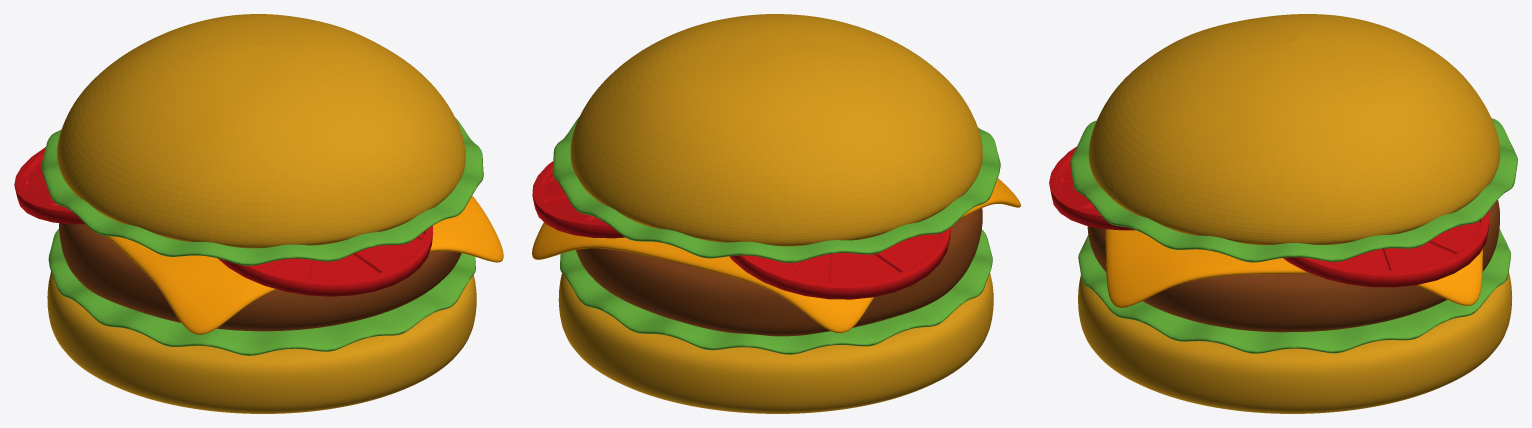
The model's file is burger.gltf.
3 views of the same model, side by side, from view 1: azimuth 30°, elevation 25°; view 2: azimuth 150°, elevation 25°; view 3: azimuth 270°, elevation 25° (orthographic).
Parts seen in each view (by area): view 1: Sphere_8, Cylinder_0, Cylinder.002_2, Cylinder.001_1, Plane_3, Cylinder.006_7, Cylinder.003_4, Cylinder.005_6; view 2: Sphere_8, Cylinder_0, Cylinder.002_2, Cylinder.001_1, Cylinder.006_7, Cylinder.005_6, Plane_3, Cylinder.004_5; view 3: Sphere_8, Cylinder_0, Cylinder.002_2, Cylinder.006_7, Cylinder.001_1, Plane_3, Cylinder.004_5, Cylinder.003_4.
Boxes of the visible parts, <box> form: Sphere_8: <box>57,14,465,248</box>; Cylinder_0: <box>47,271,476,413</box>; Cylinder.002_2: <box>59,223,461,331</box>; Cylinder.001_1: <box>48,229,475,355</box>; Plane_3: <box>106,195,503,334</box>; Cylinder.006_7: <box>41,117,483,265</box>; Cylinder.003_4: <box>218,225,433,296</box>; Cylinder.005_6: <box>14,147,85,224</box>; Sphere_8: <box>570,14,982,246</box>; Cylinder_0: <box>558,273,993,413</box>; Cylinder.002_2: <box>576,208,982,336</box>; Cylinder.001_1: <box>560,229,992,354</box>; Cylinder.006_7: <box>552,117,1000,262</box>; Cylinder.005_6: <box>729,227,951,299</box>; Plane_3: <box>532,178,1020,333</box>; Cylinder.004_5: <box>532,161,624,238</box>; Sphere_8: <box>1088,14,1500,245</box>; Cylinder_0: <box>1078,272,1512,413</box>; Cylinder.002_2: <box>1087,200,1499,332</box>; Cylinder.006_7: <box>1070,118,1517,262</box>; Cylinder.001_1: <box>1078,228,1510,353</box>; Plane_3: <box>1105,229,1482,307</box>; Cylinder.004_5: <box>1283,211,1489,287</box>; Cylinder.003_4: <box>1049,146,1135,230</box>.
Bounding box in the file's own units: 2.33 × 1.66 × 2.42.
